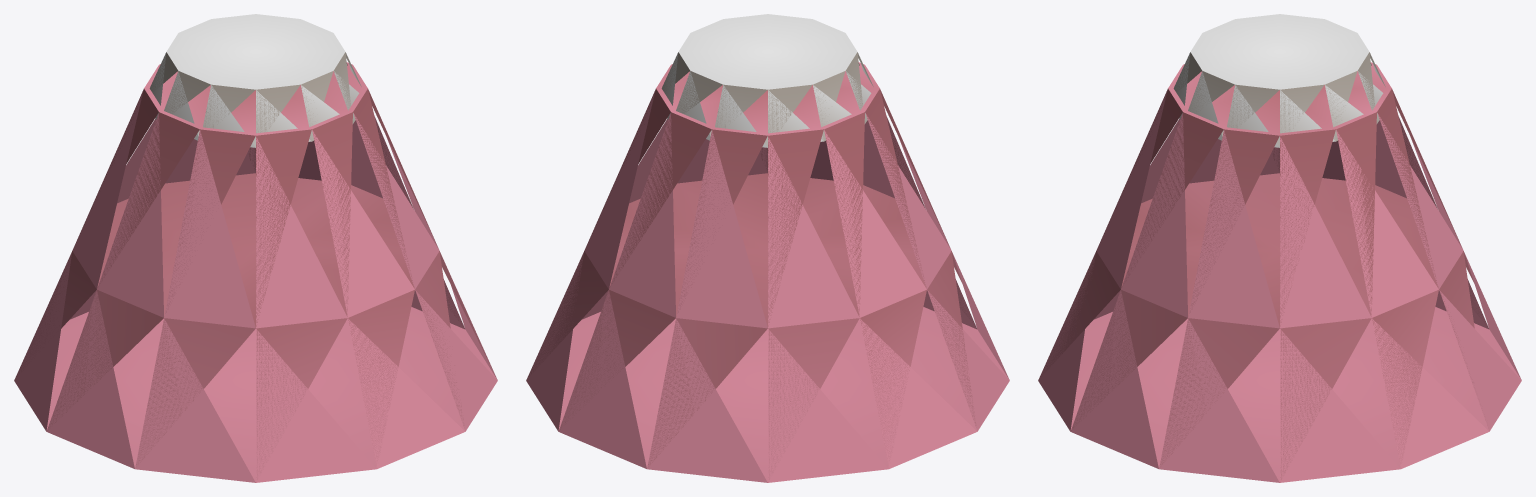
The model's file is girl-wizard-body.glb.
3 views of the same model, side by side, from view 1: azimuth 30°, elevation 25°; view 2: azimuth 150°, elevation 25°; view 3: azimuth 270°, elevation 25° (orthographic).
Visible parts, largest first — view 1: player_girl-wizard:body; view 2: player_girl-wizard:body; view 3: player_girl-wizard:body.
Boxes of the visible parts, left/top/right/bottom form: player_girl-wizard:body: left=14, top=14, right=497, bottom=482; player_girl-wizard:body: left=526, top=14, right=1009, bottom=482; player_girl-wizard:body: left=1038, top=14, right=1521, bottom=482.
Bounding box in the file's own units: 0.54 × 0.405 × 0.54.
